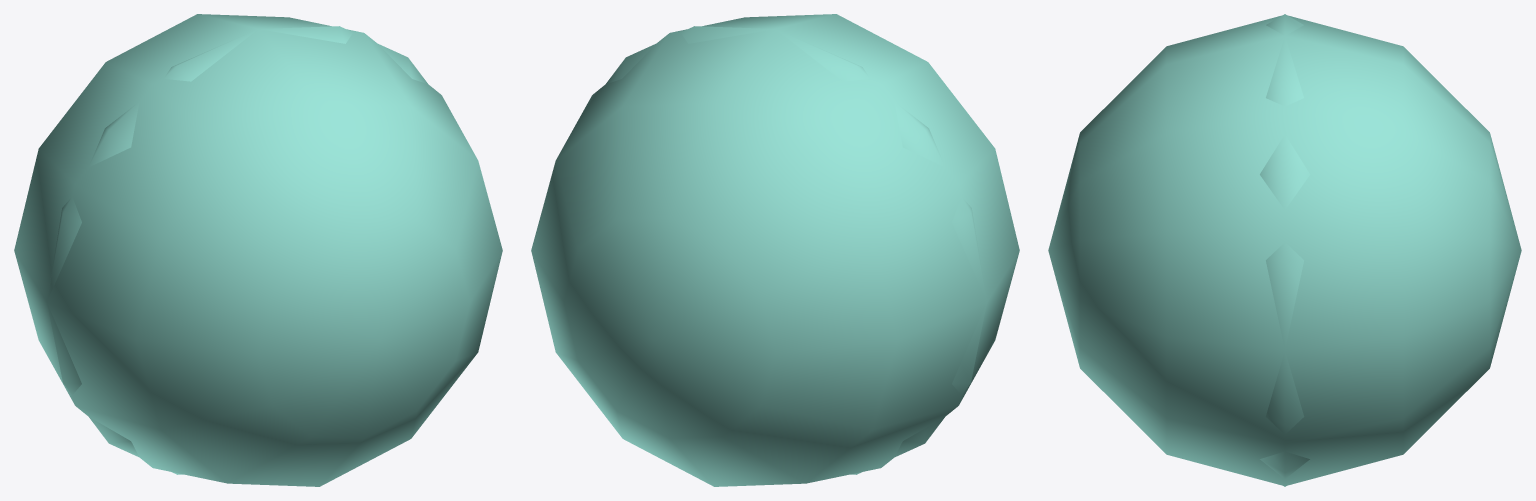
The model's file is gas-markers.glb.
3 renders of one model, left to right at view 1: azimuth 30°, elevation 25°; view 2: azimuth 150°, elevation 25°; view 3: azimuth 270°, elevation 25°, orthographic. The views are drawn at different scales.
Visible parts, largest first — view 1: Neutral sample, Ion sample; view 2: Neutral sample, Ion sample; view 3: Neutral sample, Ion sample.
Part boxes in pixels (x1=…): Neutral sample: x1=14, y1=14, x2=502, y2=486; Ion sample: x1=47, y1=26, x2=427, y2=474; Neutral sample: x1=531, y1=14, x2=1019, y2=486; Ion sample: x1=606, y1=26, x2=986, y2=474; Neutral sample: x1=1048, y1=15, x2=1521, y2=486; Ion sample: x1=1260, y1=14, x2=1309, y2=486.
Size of the model in its own units: 2 by 2 by 2.
